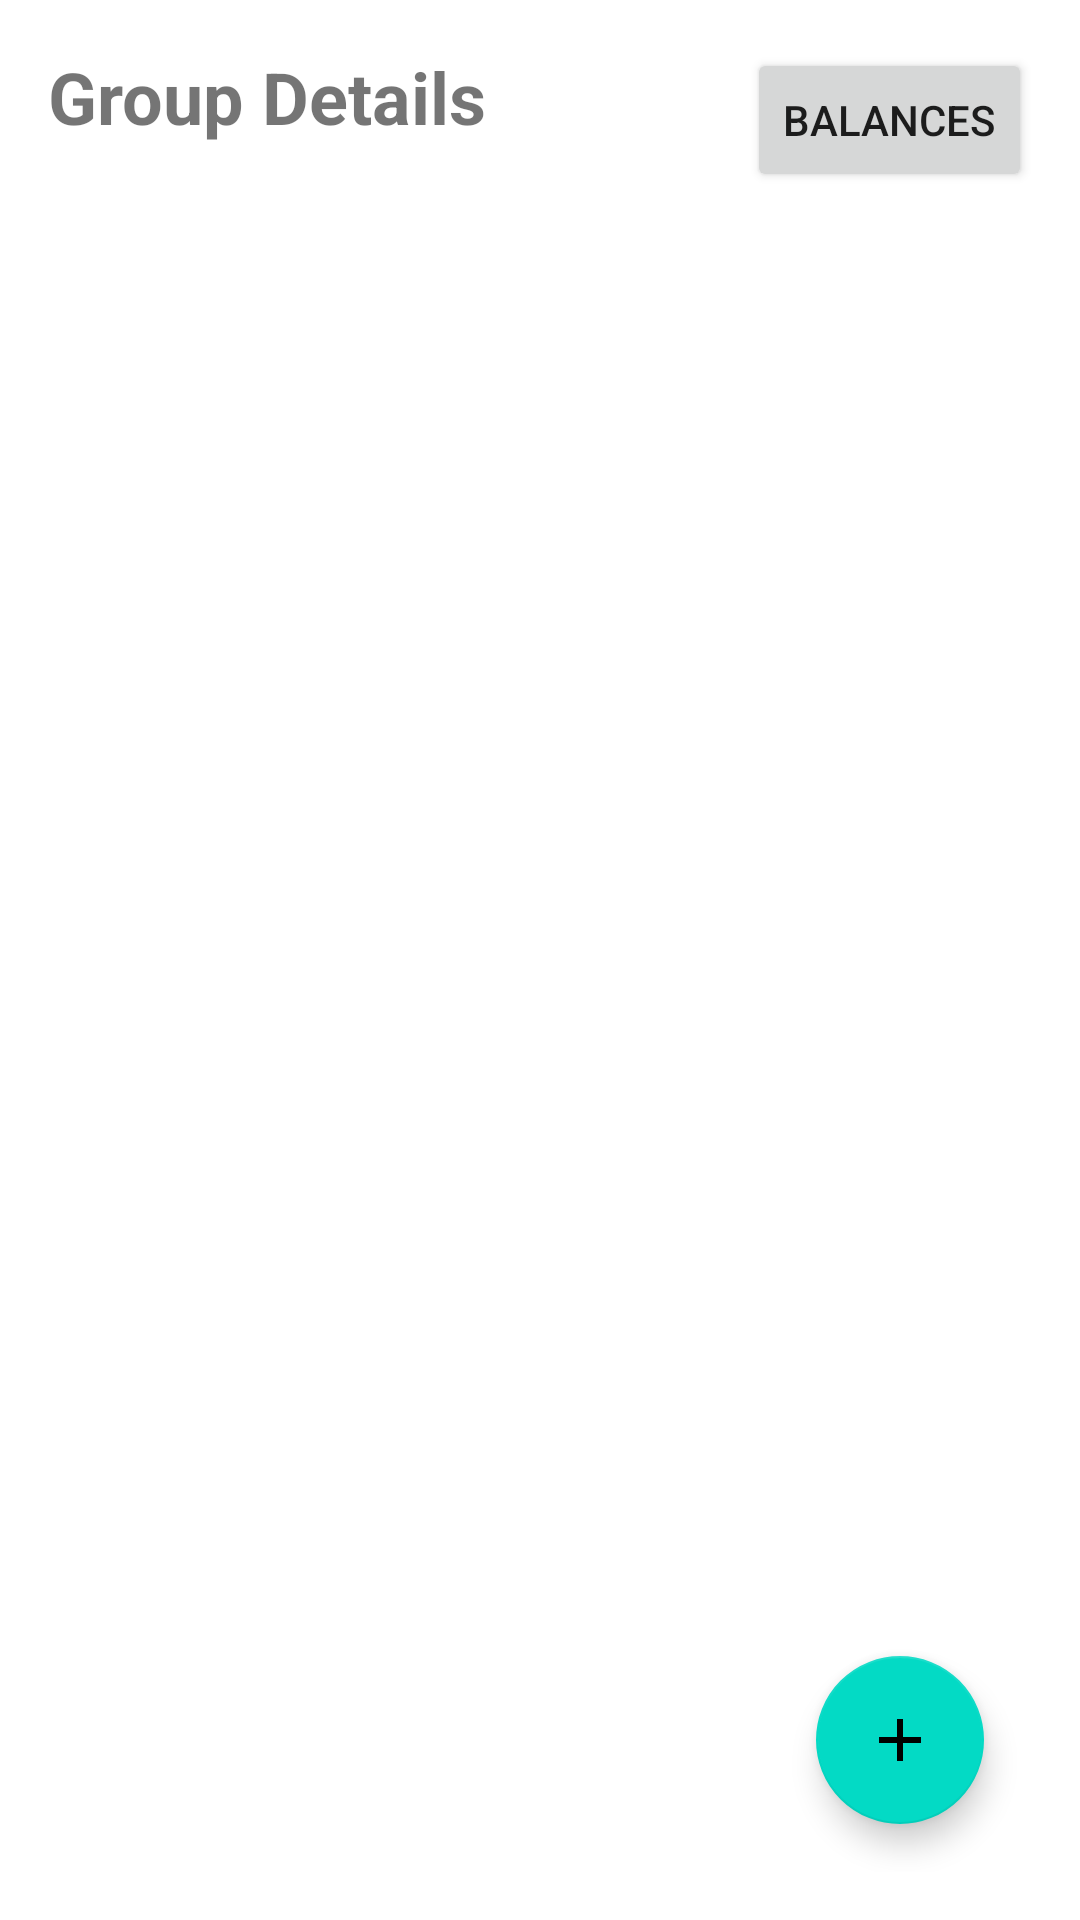

Named icons in this screenshot (1080x1920) and their centers, (x=x, y=y):
Add Expense: (x=900, y=1740)
